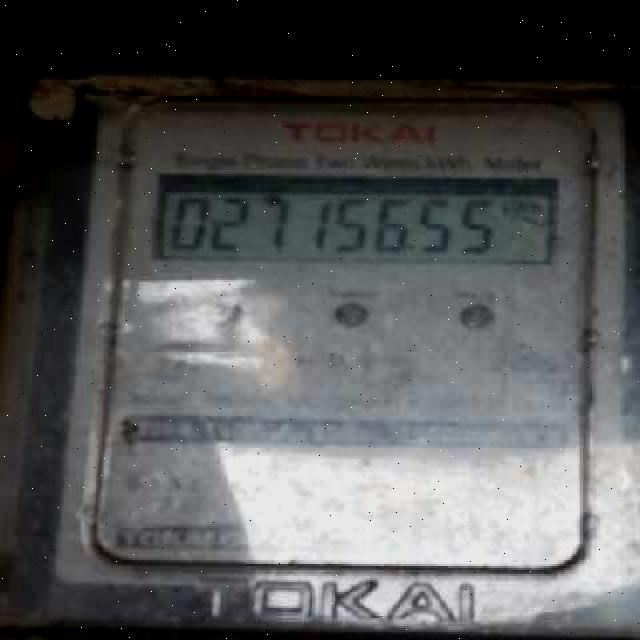LCD: (155, 171, 566, 266)
